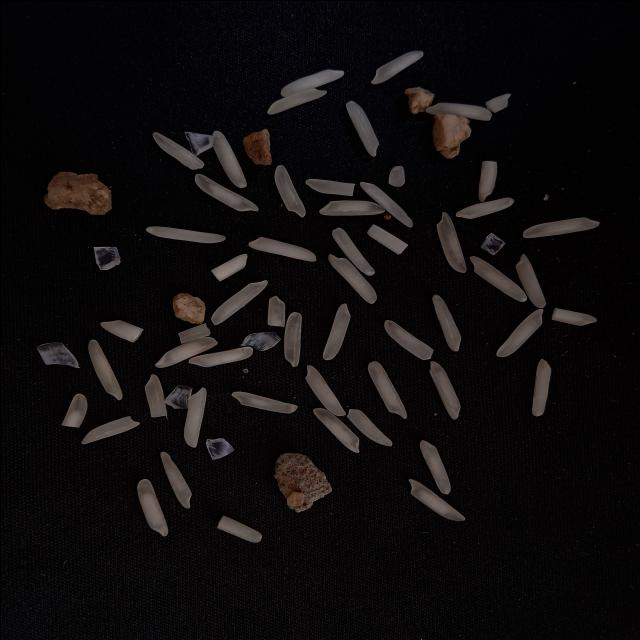Broken: (382, 318, 432, 359), (152, 131, 204, 169), (346, 408, 392, 446), (80, 415, 140, 444), (366, 223, 408, 254), (216, 514, 262, 542), (210, 253, 247, 281), (98, 319, 142, 342), (144, 373, 166, 417), (550, 306, 596, 326), (60, 392, 86, 427), (304, 178, 354, 195), (478, 160, 496, 202), (178, 322, 210, 343), (266, 294, 284, 326), (484, 93, 510, 112), (388, 165, 403, 186)
Full: (468, 255, 526, 301), (358, 180, 412, 227), (210, 279, 266, 324), (406, 477, 464, 520), (193, 173, 258, 211), (328, 253, 376, 303), (366, 360, 406, 418), (496, 308, 542, 356), (303, 364, 345, 416), (330, 227, 374, 275), (88, 338, 122, 400), (211, 130, 246, 188), (312, 408, 358, 452), (158, 450, 192, 508), (155, 337, 217, 368), (428, 360, 460, 419), (136, 478, 168, 536), (345, 100, 378, 156), (436, 211, 466, 272), (280, 68, 344, 96), (370, 50, 422, 84), (522, 215, 598, 238), (418, 439, 450, 493), (248, 236, 316, 261), (432, 293, 461, 351), (273, 164, 305, 216), (322, 302, 350, 360), (515, 253, 545, 307), (266, 88, 326, 114), (230, 390, 297, 412), (144, 225, 224, 243), (183, 386, 206, 446), (186, 346, 252, 366), (455, 196, 513, 218), (424, 102, 491, 120), (532, 358, 550, 415), (283, 310, 301, 366), (318, 200, 384, 214)
